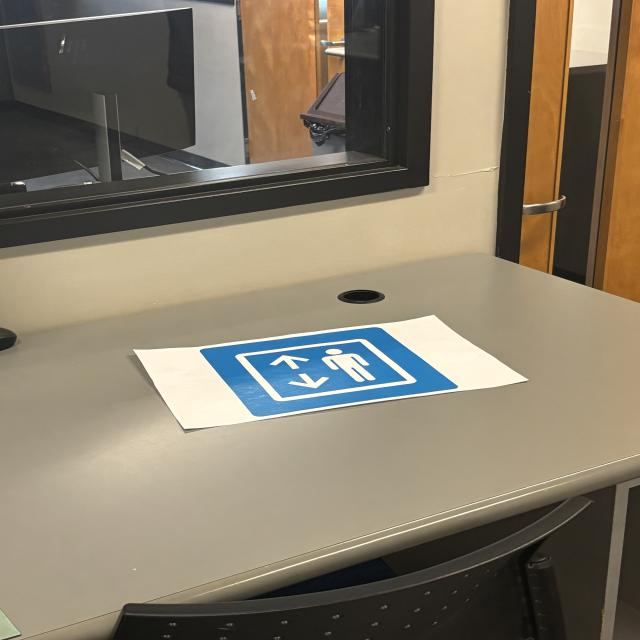elevator: (200, 325, 462, 414)
